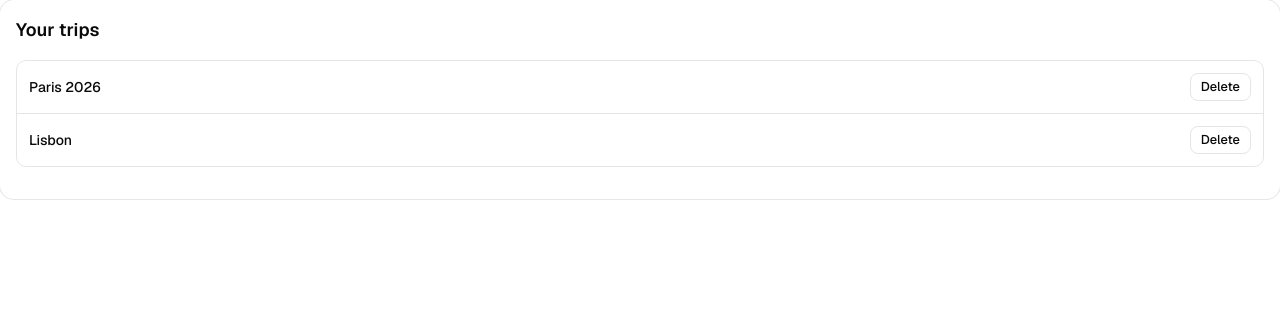
it: TripList › F2.AC9 a 404 not_found on delete removes the row, shows "This trip could not be found." and not the failure message
Step 1. Click the button with aria-label "Delete trip Lisbon" → (1220, 140), box [1190, 126, 1251, 154]
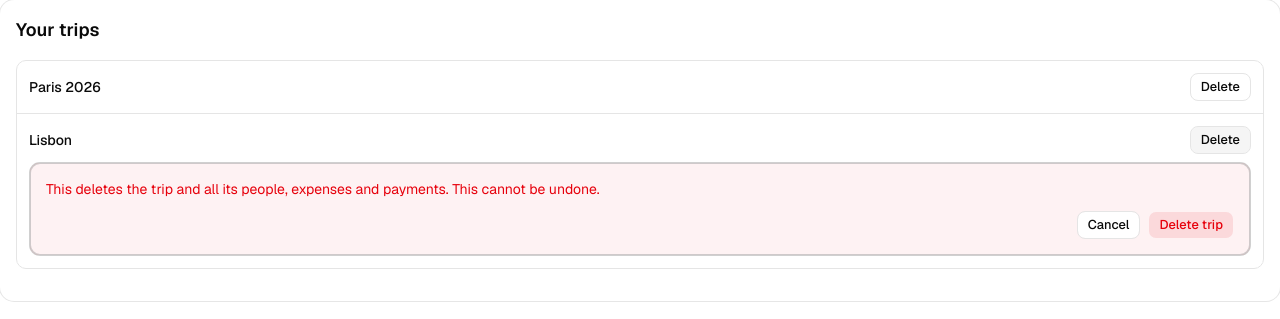
Step 2. Click the button "Delete trip" → (1191, 225), box [1148, 211, 1234, 239]
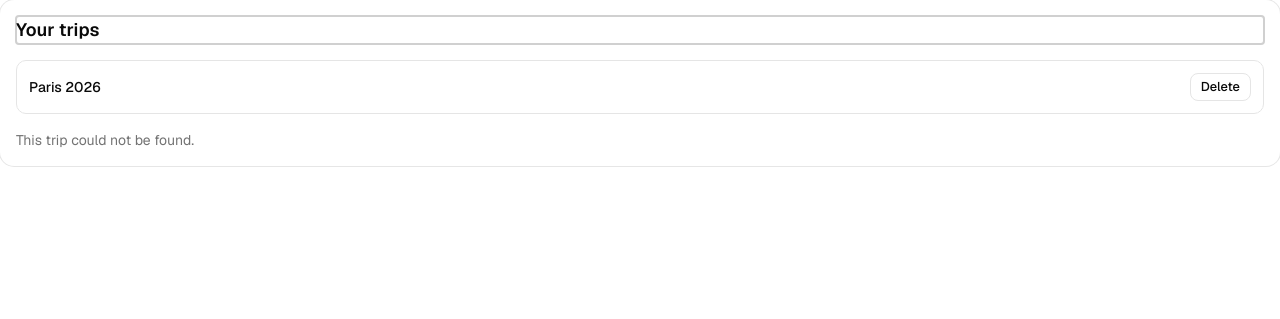
Expected: the link "Paris 2026" is shown, [29, 77, 101, 97]
Now the link "Lisbon" is gone
Now the message reads "This trip could not be found.", box [16, 131, 194, 149]
